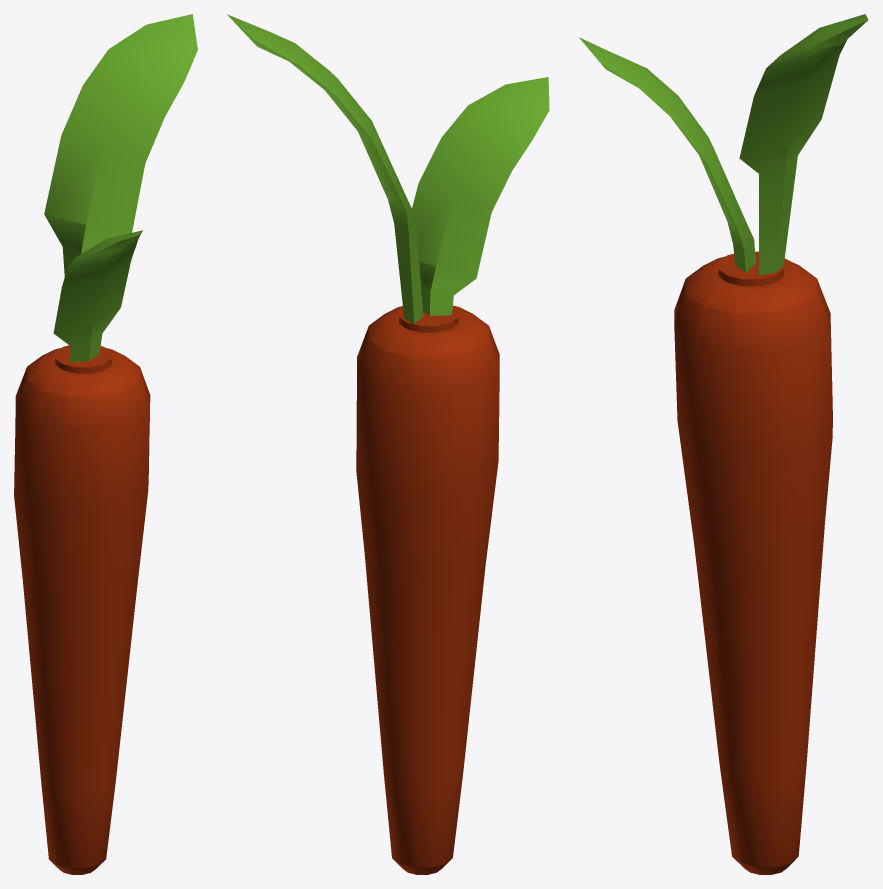
Rendered from OnlyCarrot.fbx.
The picture shows the model from 3 angles, left to right: view 1: azimuth 30°, elevation 25°; view 2: azimuth 150°, elevation 25°; view 3: azimuth 270°, elevation 25°; orthographic projection. The views are drawn at different scales.
Parts seen in each view (by area): view 1: Carrot; view 2: Carrot; view 3: Carrot.
Part boxes in pixels (box(x1,y1,x2,y2)): Carrot: box(14, 14, 197, 874); Carrot: box(227, 14, 549, 874); Carrot: box(579, 14, 868, 874).
Size of the model in its own units: 2.32 by 8.42 by 2.41.
